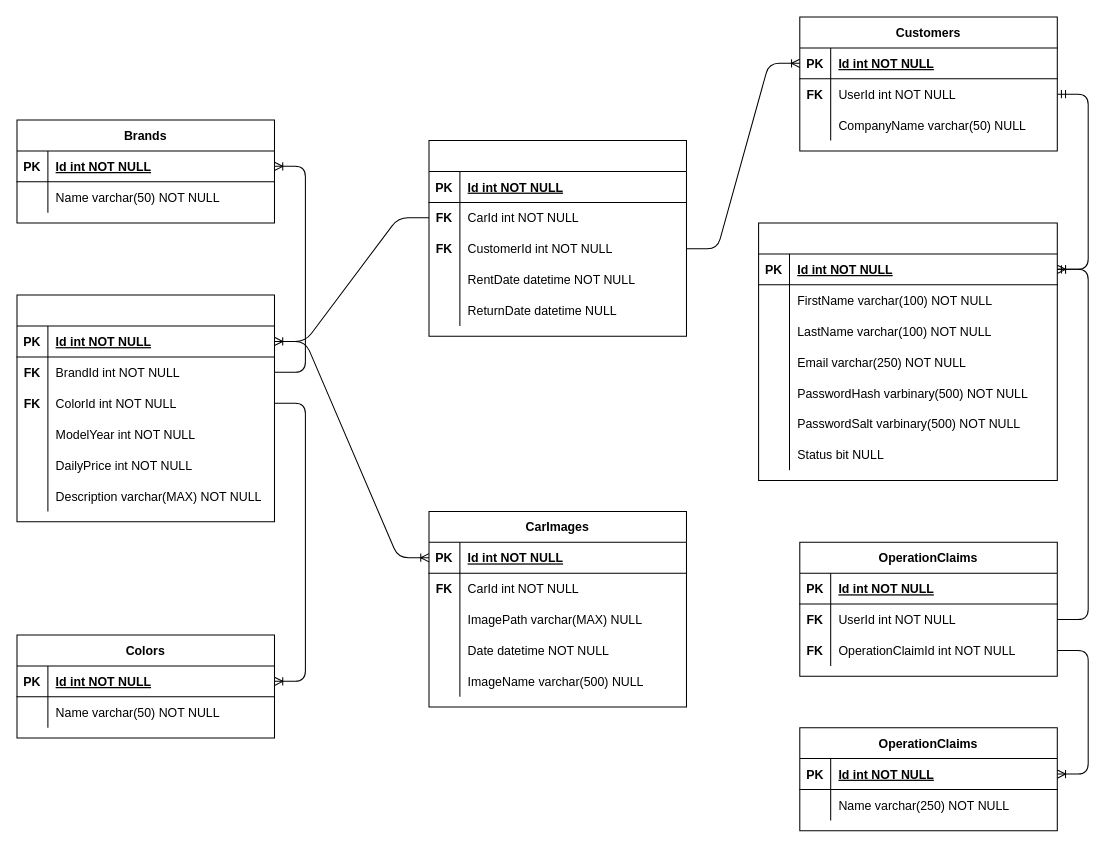
Image size: 1105x848. Some labels were removed from this diagram. Each missing label, with the box of its shape:
Cars: (16, 294, 274, 522)
Rentals: (428, 140, 686, 336)
Users: (758, 222, 1057, 480)
